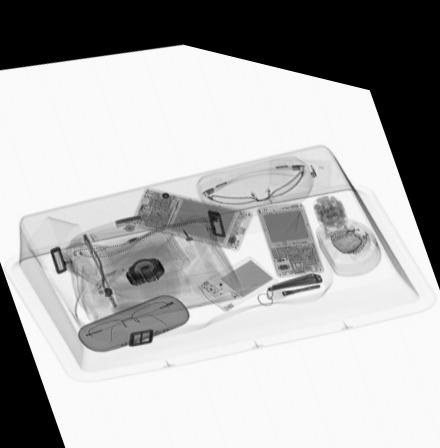Powerbank: (129, 180, 247, 237)
